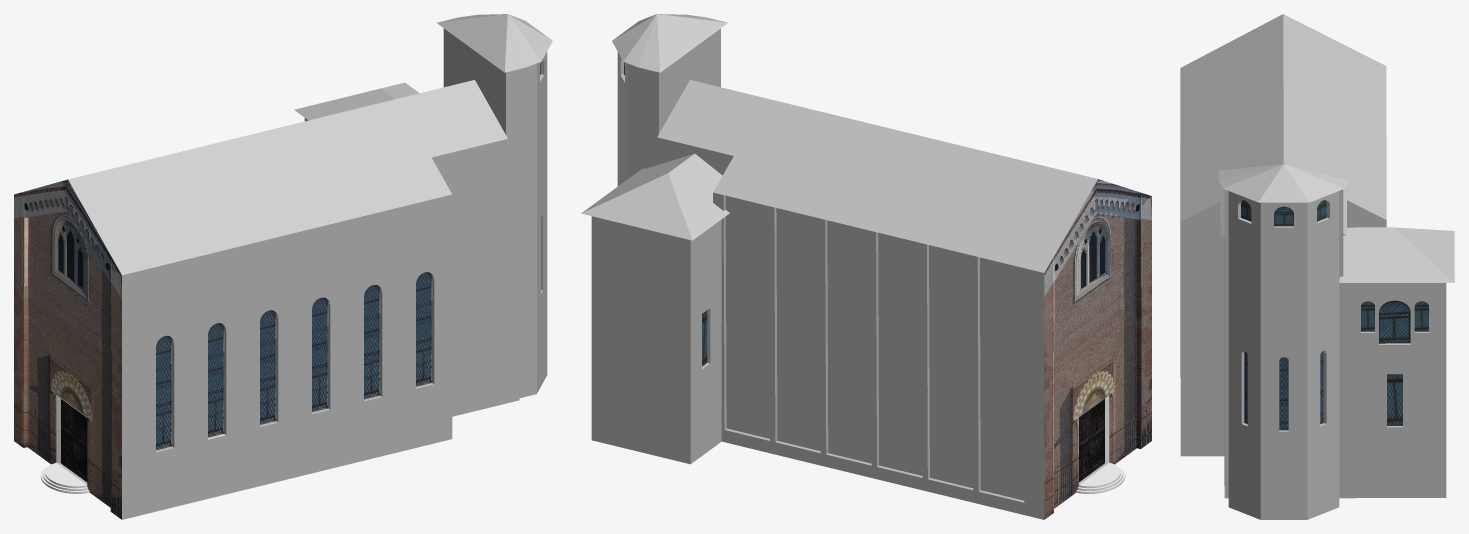
Rendered from render.dae.
3 views of the same model, side by side, from view 1: azimuth 30°, elevation 25°; view 2: azimuth 150°, elevation 25°; view 3: azimuth 270°, elevation 25° (orthographic). The views are drawn at different scales.
Parts seen in each view (by area): view 1: Sketchup; view 2: Sketchup; view 3: Sketchup.
Boxes of the visible parts, box(x1,y1,x2,y2) form: Sketchup: box(14, 14, 552, 519); Sketchup: box(581, 14, 1151, 519); Sketchup: box(1180, 14, 1454, 519).
Bounding box in the file's own units: 36.1 × 18.2 × 25.09.
